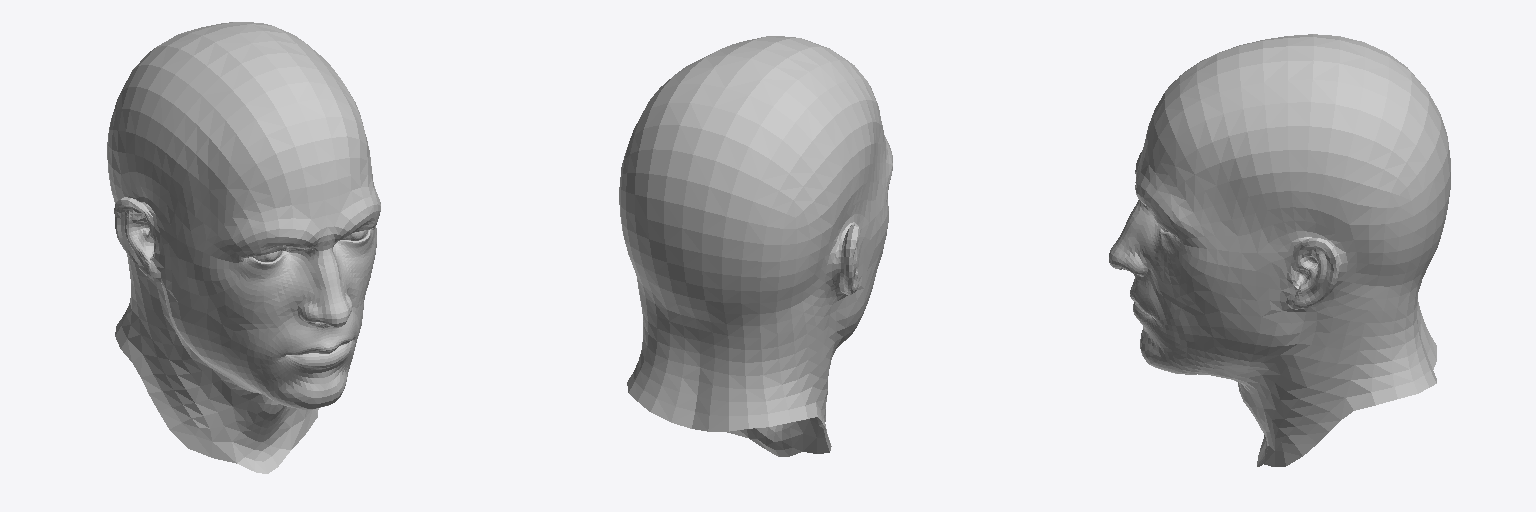
File: free_head.obj
The picture shows the model from 3 angles: view 1: azimuth 30°, elevation 25°; view 2: azimuth 150°, elevation 25°; view 3: azimuth 270°, elevation 25°; orthographic projection.
Visible parts, largest first — view 1: man_body_0014_uv_map_man_body_0014_uv_map.001; view 2: man_body_0014_uv_map_man_body_0014_uv_map.001; view 3: man_body_0014_uv_map_man_body_0014_uv_map.001.
Part boxes in pixels (bbox=[...]): man_body_0014_uv_map_man_body_0014_uv_map.001: bbox=[107, 22, 380, 473]; man_body_0014_uv_map_man_body_0014_uv_map.001: bbox=[619, 36, 892, 456]; man_body_0014_uv_map_man_body_0014_uv_map.001: bbox=[1109, 34, 1450, 466].
Bounding box in the file's own units: 0.1767 × 0.3092 × 0.2288.